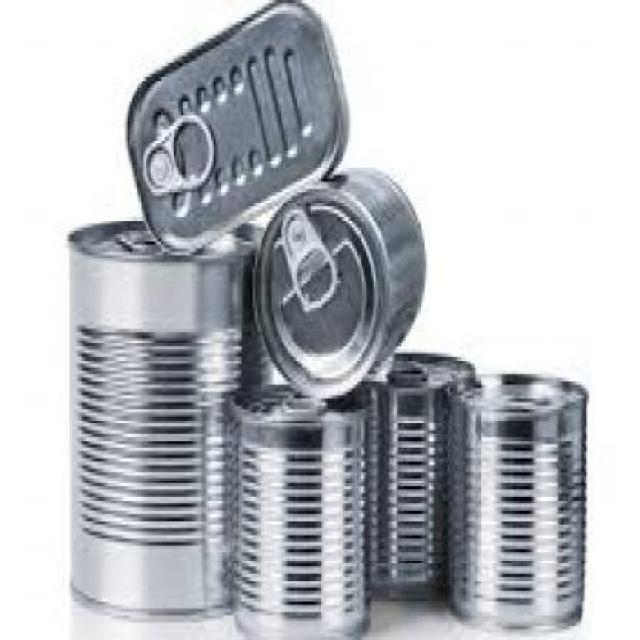METAL: (65, 216, 269, 619), (123, 0, 347, 255), (248, 168, 424, 395), (222, 381, 367, 637), (444, 370, 584, 633), (359, 350, 478, 608)
